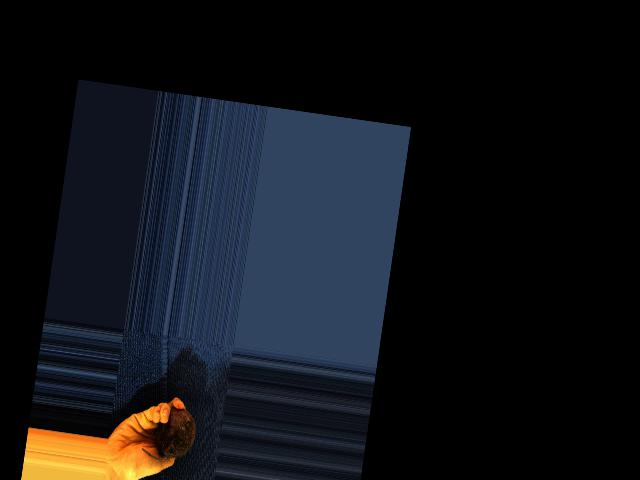beet: (139, 403, 198, 465)
